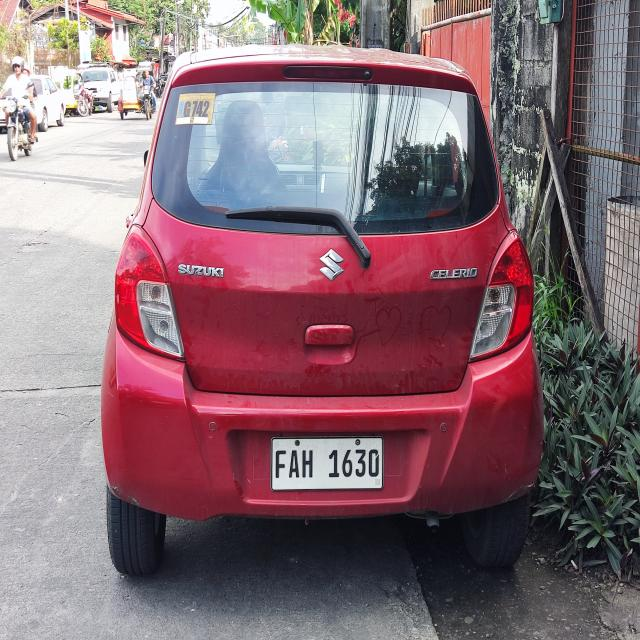plate: (270, 435, 384, 492)
